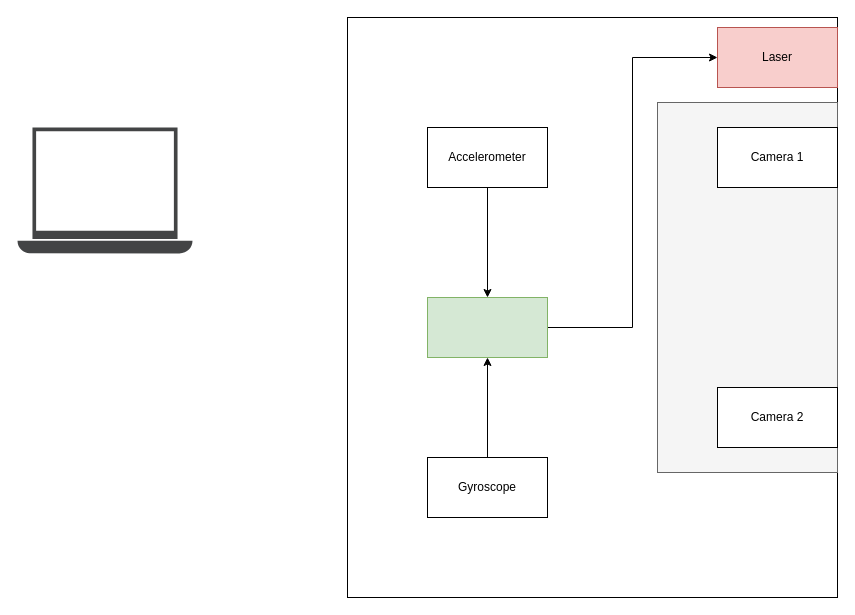
Image size: 855x615. Some labels were removed from this diagram. The shapes that lost their labels are listed below. From the top down, each one's box as (x1, y1, x2, y2) in pixels, then its label:
(346, 16, 838, 598): HindSight 3D Scanner
(656, 102, 838, 472): Stereocamera
(426, 296, 548, 358): Arduino
